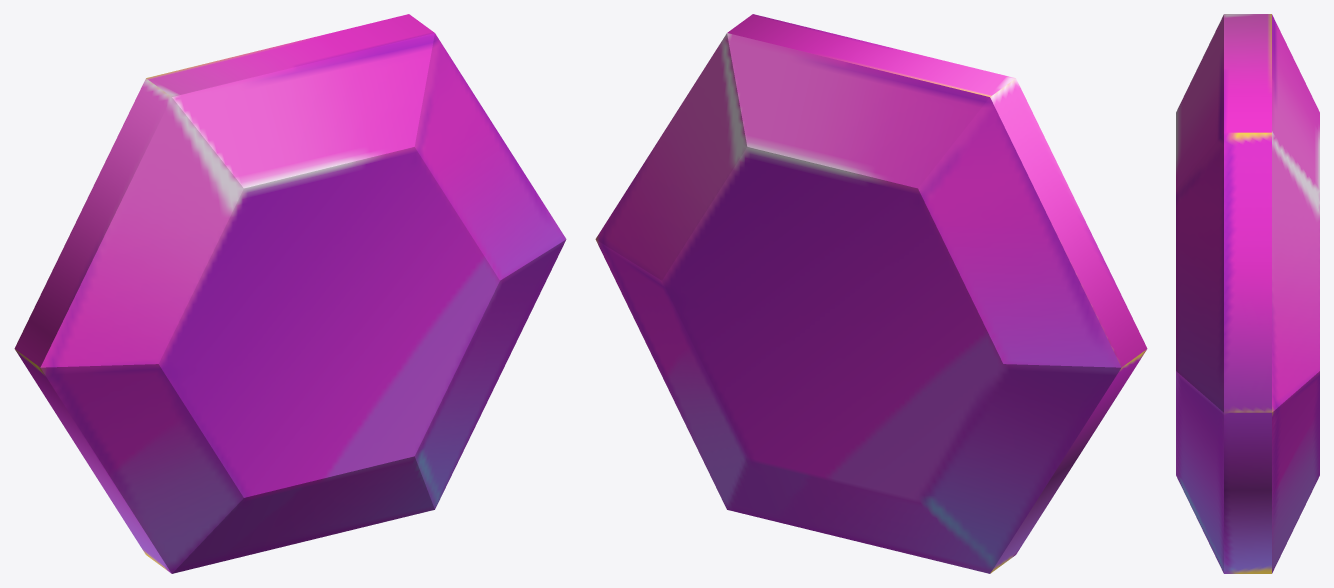
File: capsule_energy.FBX
3 views of the same model, side by side, from view 1: azimuth 30°, elevation 25°; view 2: azimuth 150°, elevation 25°; view 3: azimuth 270°, elevation 25° (orthographic). The views are drawn at different scales.
Parts seen in each view (by area): view 1: Cylinder001; view 2: Cylinder001; view 3: Cylinder001.
Boxes of the visible parts, x1,y1,x2,y2 form: Cylinder001: [14, 14, 566, 573]; Cylinder001: [595, 14, 1147, 573]; Cylinder001: [1176, 14, 1319, 573].
Size of the model in its own units: 23.67 by 20.5 by 6.05.
1 material, 1 textured.
